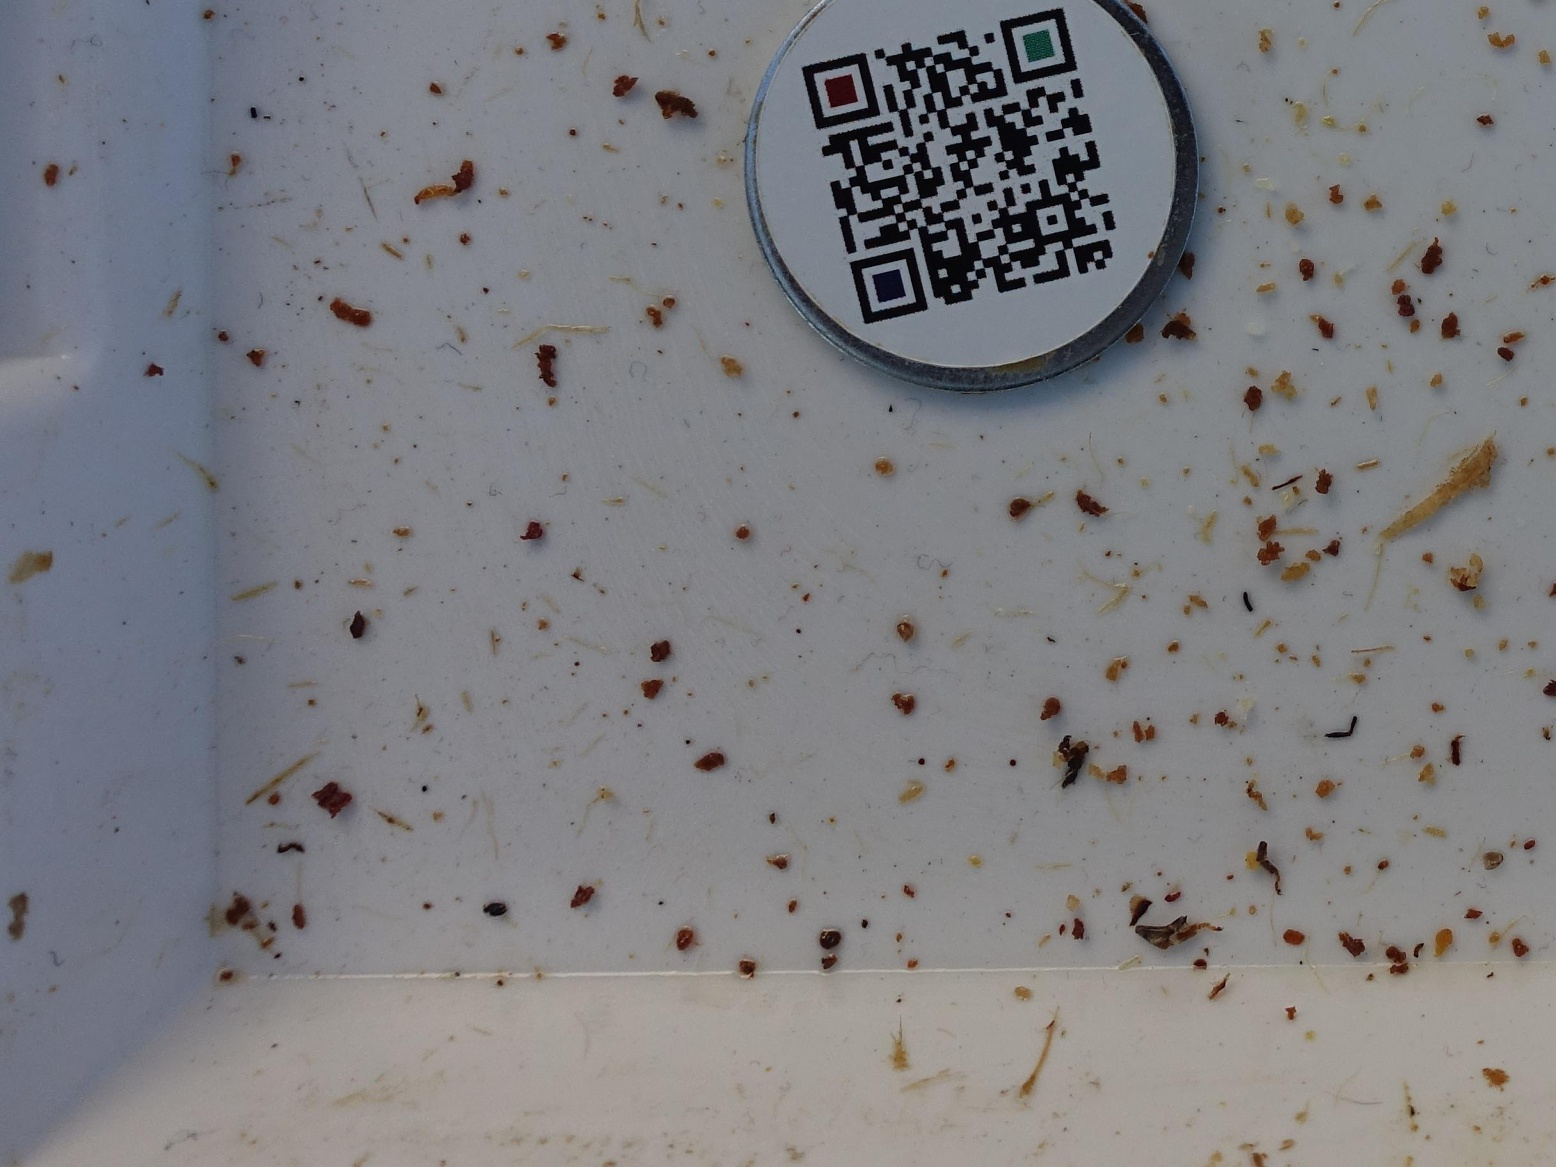Varroa: (818, 935, 840, 959)
